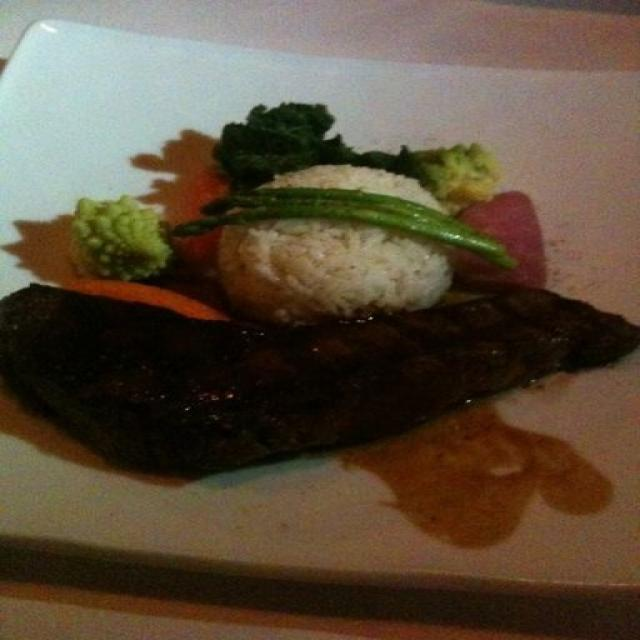Steak: (38, 288, 634, 509)
